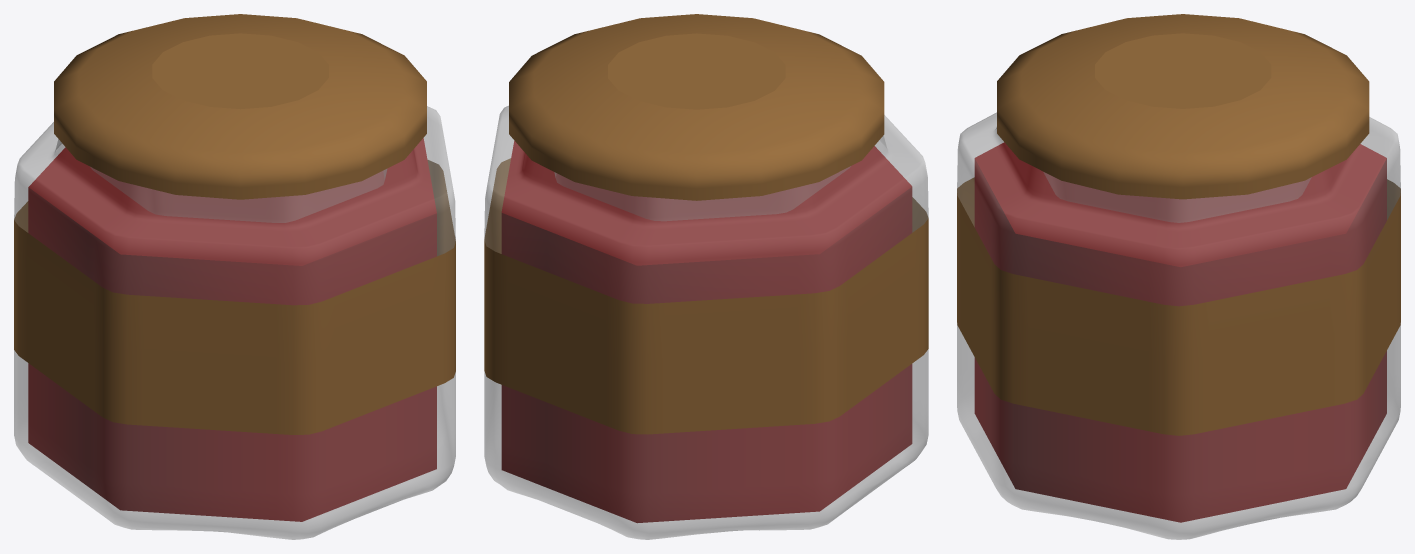
The picture shows the model from 3 angles, left to right: view 1: azimuth 30°, elevation 25°; view 2: azimuth 150°, elevation 25°; view 3: azimuth 270°, elevation 25°; orthographic projection.
Visible parts, largest first — view 1: Cylinder001, Cylinder003, Cylinder002; view 2: Cylinder001, Cylinder003, Cylinder002; view 3: Cylinder001, Cylinder003, Cylinder002.
Part boxes in pixels (x1,y1,x2,y2): Cylinder001: [14, 106, 455, 539]; Cylinder003: [28, 138, 436, 521]; Cylinder002: [54, 14, 426, 199]; Cylinder001: [484, 106, 928, 539]; Cylinder003: [501, 141, 912, 522]; Cylinder002: [509, 14, 884, 200]; Cylinder001: [957, 112, 1400, 539]; Cylinder003: [974, 142, 1386, 522]; Cylinder002: [997, 14, 1369, 199].
Size of the model in its own units: 3882 by 3757 by 3952.
